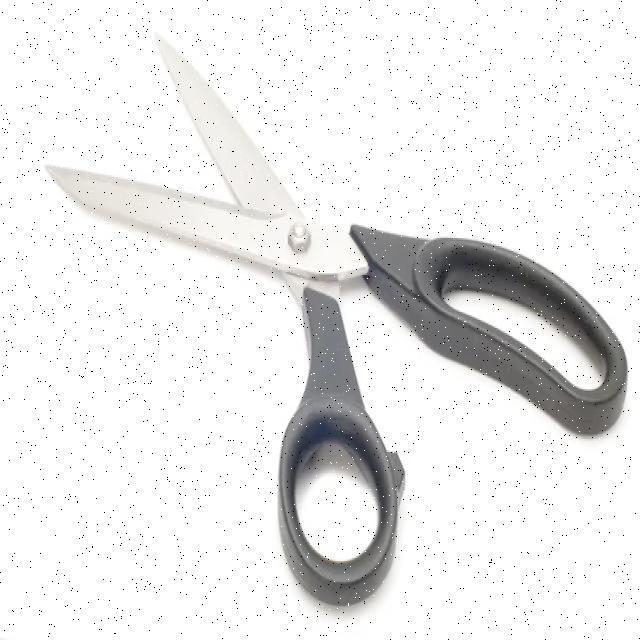scissors: (41, 22, 631, 614)
